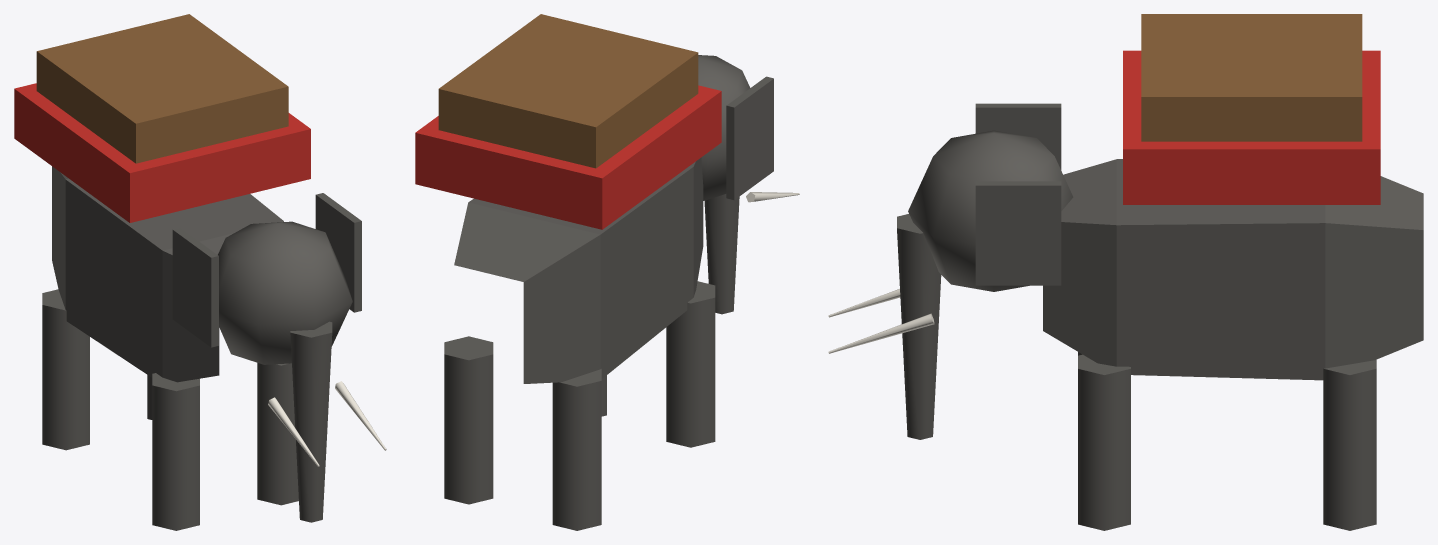
The model's file is unit_mil_war_elephant_a02_lod2.glb.
The picture shows the model from 3 angles, left to right: view 1: azimuth 30°, elevation 25°; view 2: azimuth 150°, elevation 25°; view 3: azimuth 270°, elevation 25°; orthographic projection. The views are drawn at different scales.
Parts seen in each view (by area): view 1: body; view 2: body; view 3: body.
Boxes of the visible parts, box(x1,y1,x2,y2) form: body: box(14, 14, 386, 530); body: box(415, 14, 799, 530); body: box(828, 14, 1423, 530).
Size of the model in its own units: 1.9 by 3.9 by 4.85.
